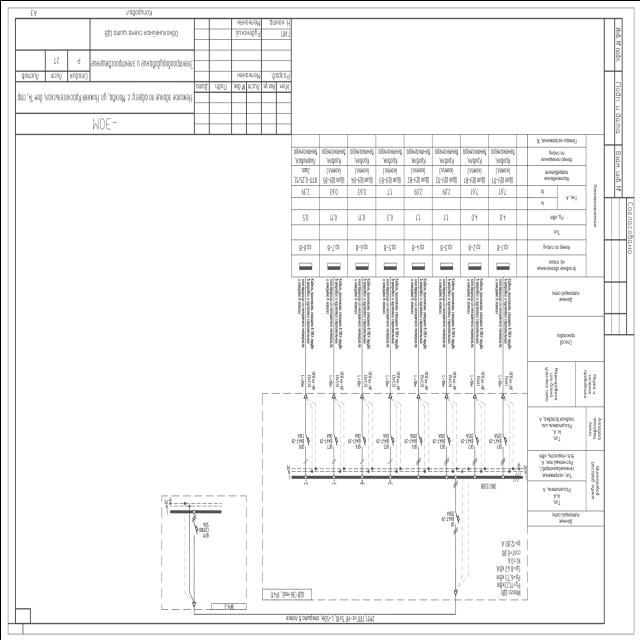-: (268, 589, 304, 598), (290, 430, 304, 442), (440, 509, 454, 521), (403, 430, 416, 442), (319, 430, 332, 442), (488, 430, 501, 442), (347, 430, 360, 442), (376, 430, 388, 442), (460, 431, 472, 443), (432, 430, 444, 442)
QF: (442, 431, 450, 466), (302, 432, 310, 467), (414, 432, 422, 467), (499, 432, 507, 466), (330, 430, 338, 464), (358, 432, 366, 466), (386, 430, 394, 464), (471, 431, 478, 466), (452, 512, 459, 534)
